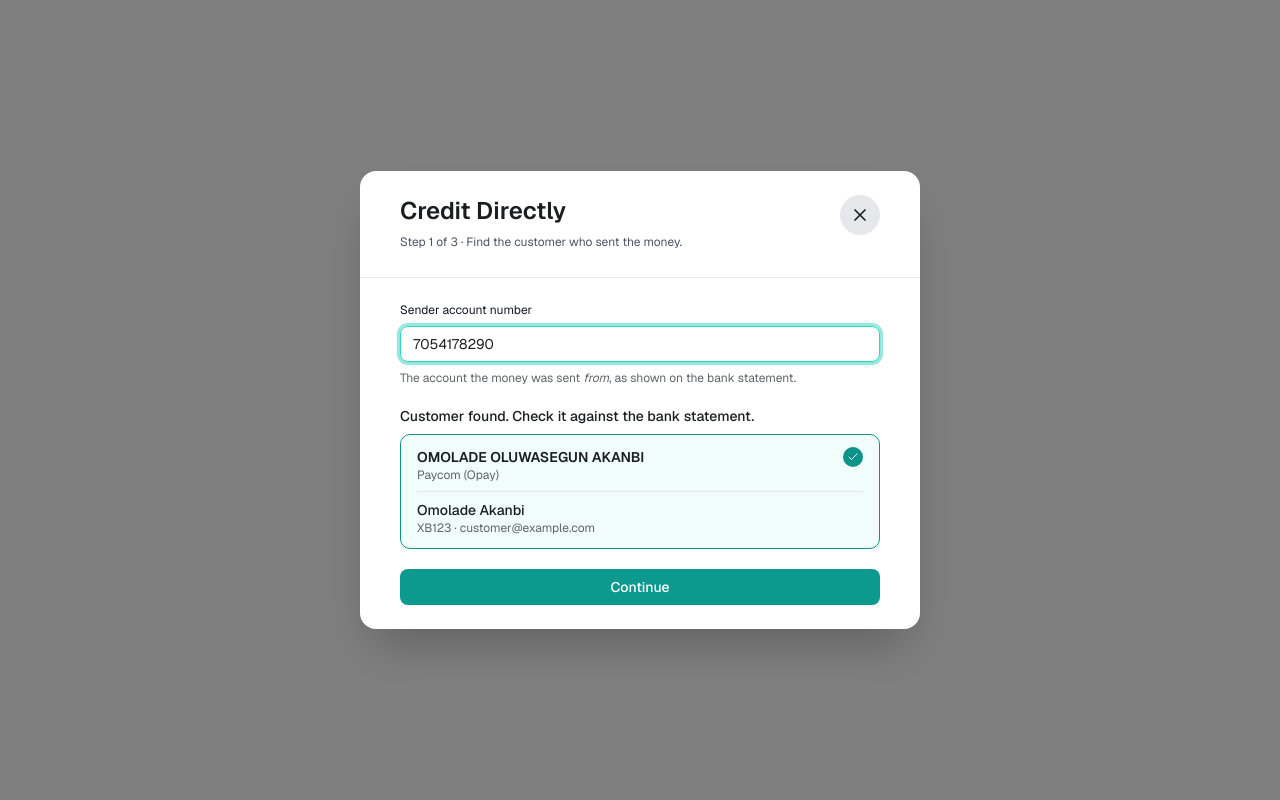
Test: CreditDirectlyModal: details › shows the reference as it will be stored
The image size is (1280, 800).
Click the button "Continue": (640, 587) [400, 569, 880, 605]
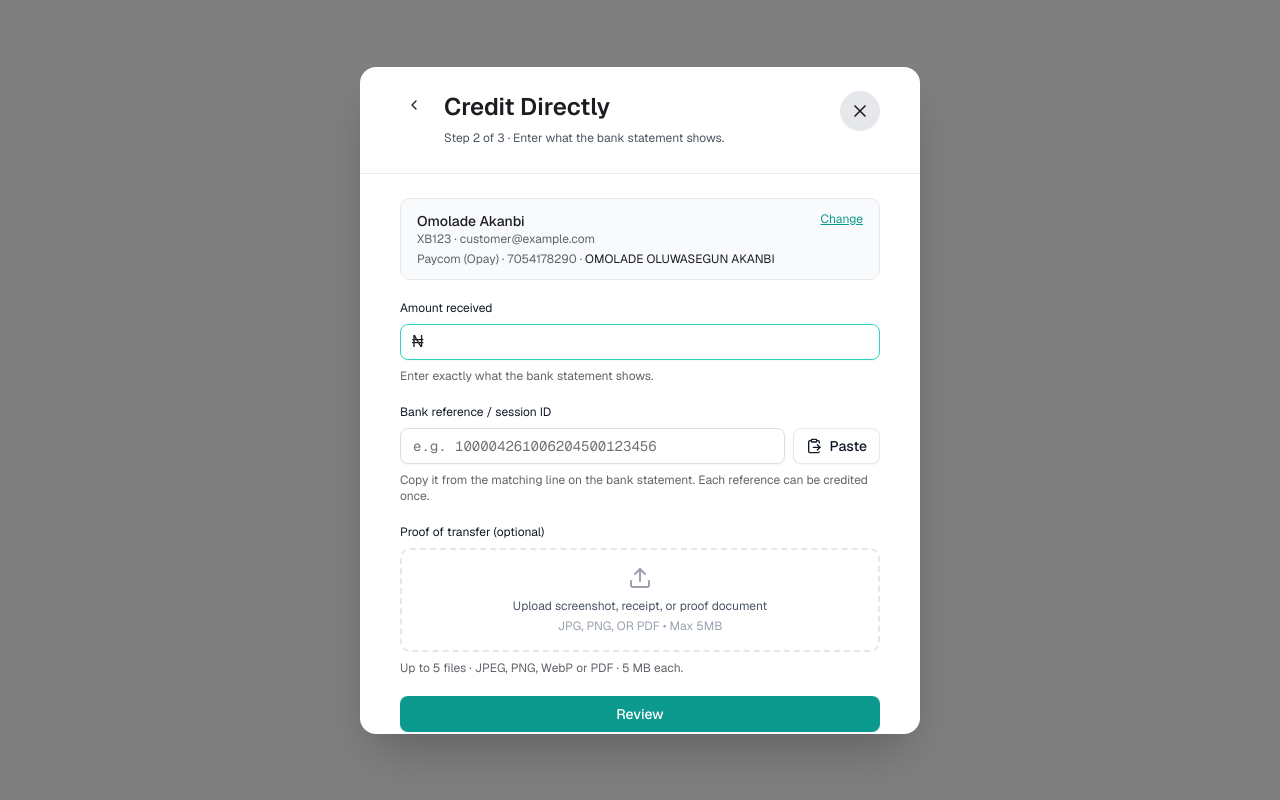
Check: the field labelled "Amount received" is shown, box [400, 324, 880, 360]
In the field labelled "Bank reference / session ID": (592, 446) [400, 428, 785, 464], type "nip123abc"
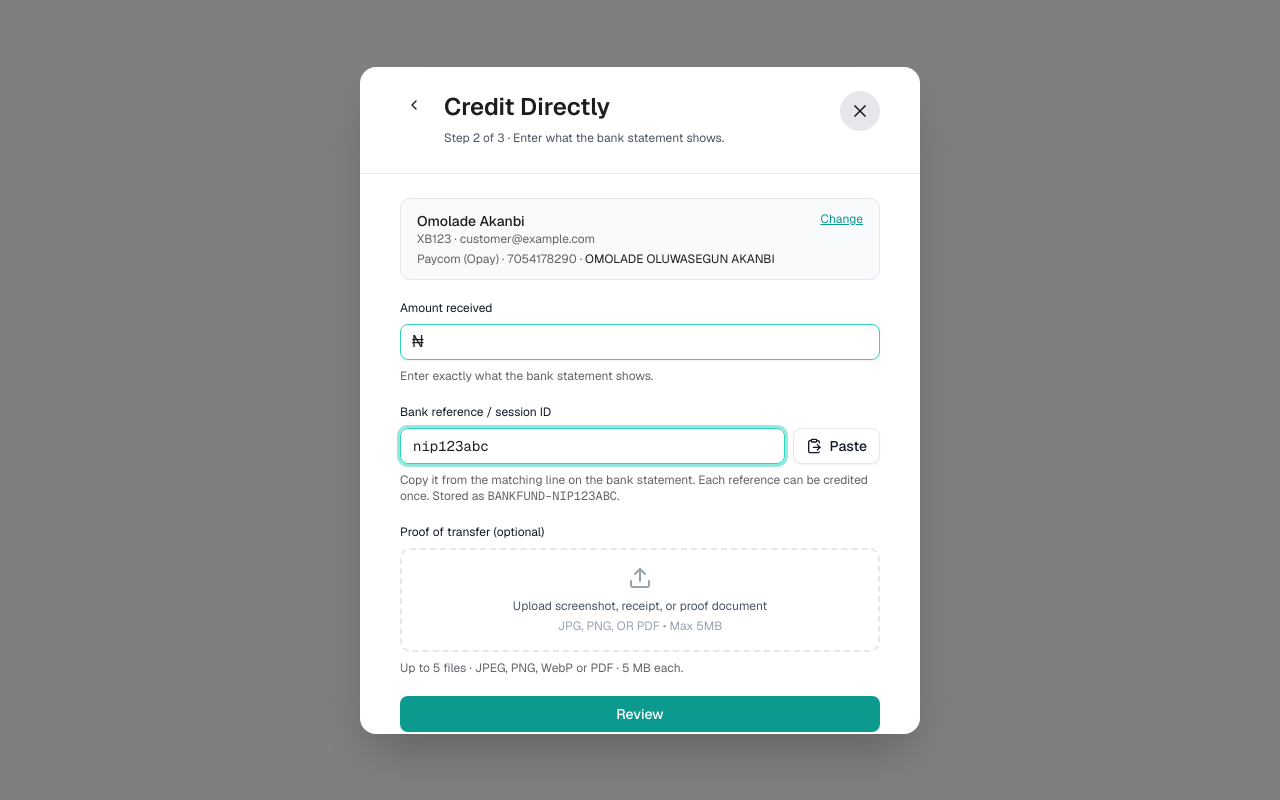
Check: the text "BANKFUND-NIP123ABC" is shown, box [488, 488, 617, 504]
